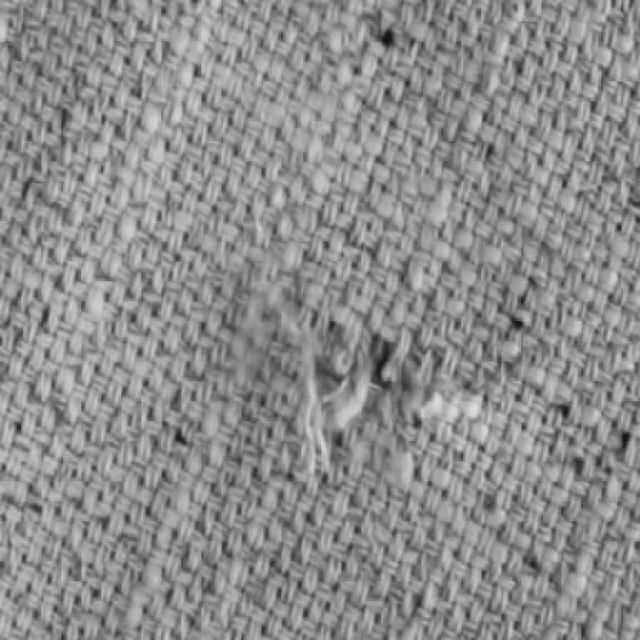other: (234, 283, 464, 497), (336, 10, 434, 74)
